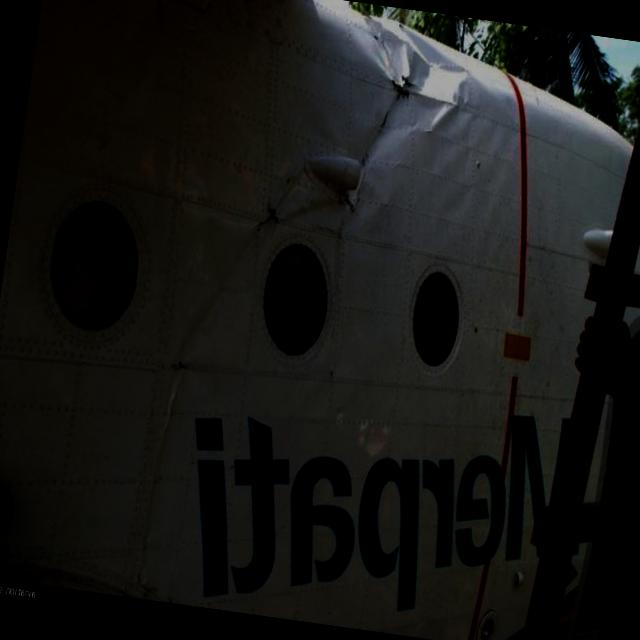dent: (336, 8, 482, 154), (268, 183, 362, 240)
